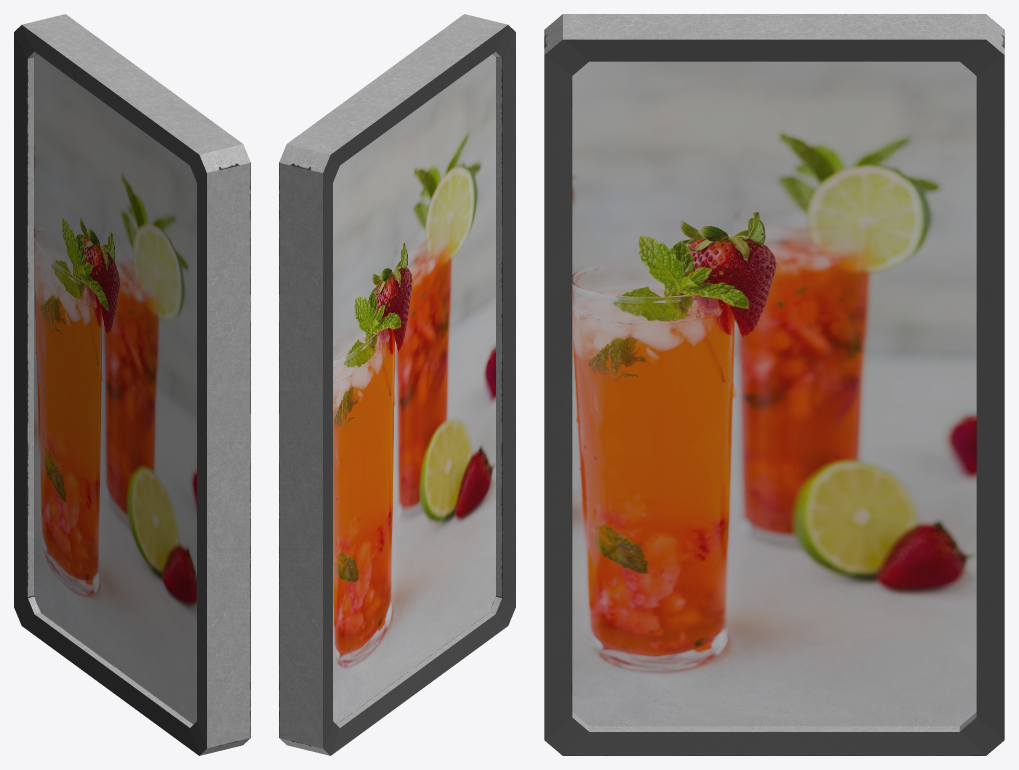
Rendered from Panel09a.FBX.
The picture shows the model from 3 angles, left to right: view 1: azimuth 30°, elevation 25°; view 2: azimuth 150°, elevation 25°; view 3: azimuth 270°, elevation 25°; orthographic projection. The views are drawn at different scales.
Visible parts, largest first — view 1: Panel09a; view 2: Panel09a; view 3: Panel09a.
Part boxes in pixels (box(x1,y1,x2,y2)): Panel09a: box(14, 14, 250, 755); Panel09a: box(279, 14, 515, 755); Panel09a: box(544, 14, 1004, 755).
Bounding box in the file's own units: 138 × 1803 × 1049.
